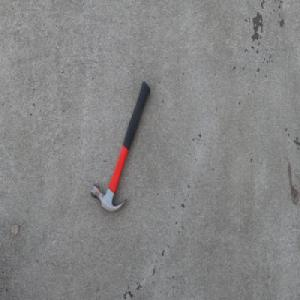Hammer: (90, 80, 151, 213)
